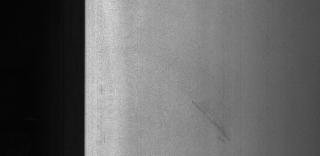water spot: (190, 94, 237, 148)
